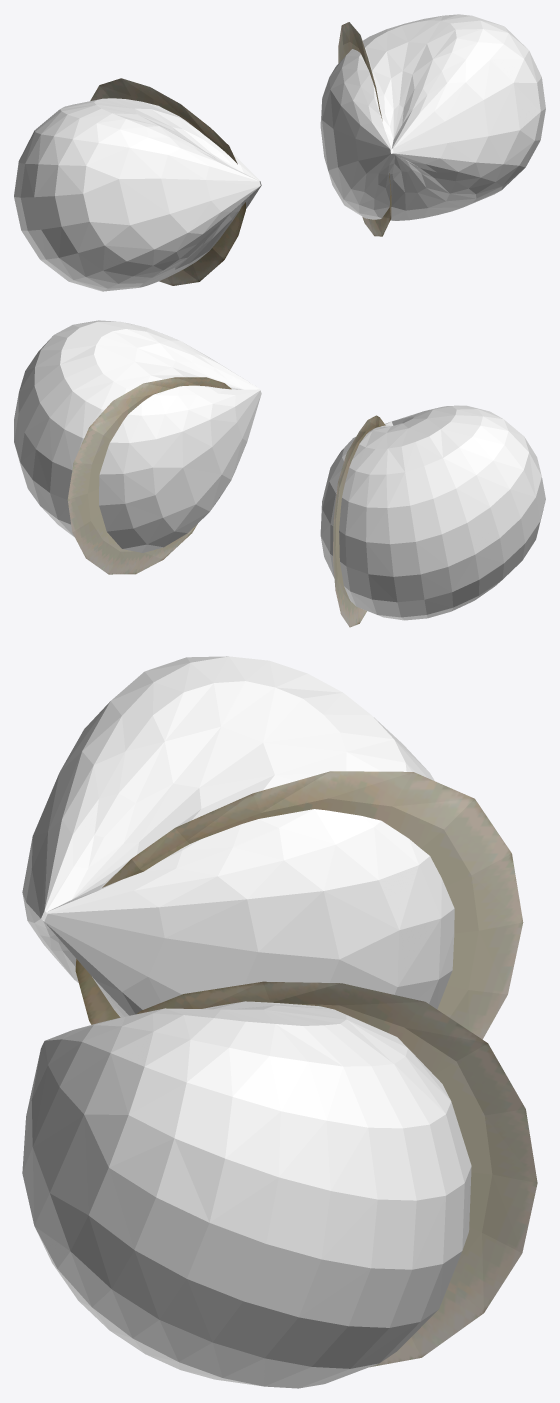
Rendered from wings.dae.
The picture shows the model from 3 angles, top to bottom: view 1: azimuth 30°, elevation 25°; view 2: azimuth 150°, elevation 25°; view 3: azimuth 270°, elevation 25°; orthographic projection. The views are drawn at different scales.
Parts seen in each view (by area): view 1: n1b1, n3b3, n2b2, n0b0; view 2: n1b1, n3b3, n0b0, n2b2; view 3: n1b1, n3b3, n2b2, n0b0.
Part boxes in pixels (x1=…): n1b1: x1=320, y1=14, x2=545, y2=220; n3b3: x1=14, y1=98, x2=261, y2=291; n2b2: x1=90, y1=78, x2=245, y2=285; n0b0: x1=338, y1=22, x2=391, y2=236; n1b1: x1=14, y1=320, x2=261, y2=552; n3b3: x1=320, y1=405, x2=545, y2=620; n0b0: x1=67, y1=377, x2=231, y2=574; n2b2: x1=333, y1=415, x2=385, y2=627; n1b1: x1=22, y1=1001, x2=471, y2=1388; n3b3: x1=22, y1=656, x2=454, y2=1017; n2b2: x1=75, y1=771, x2=523, y2=1039; n0b0: x1=136, y1=981, x2=537, y2=1367.
Size of the model in its own units: 1.93 by 0.8589 by 0.7518.
Materials: 3 (3 with a texture image).
